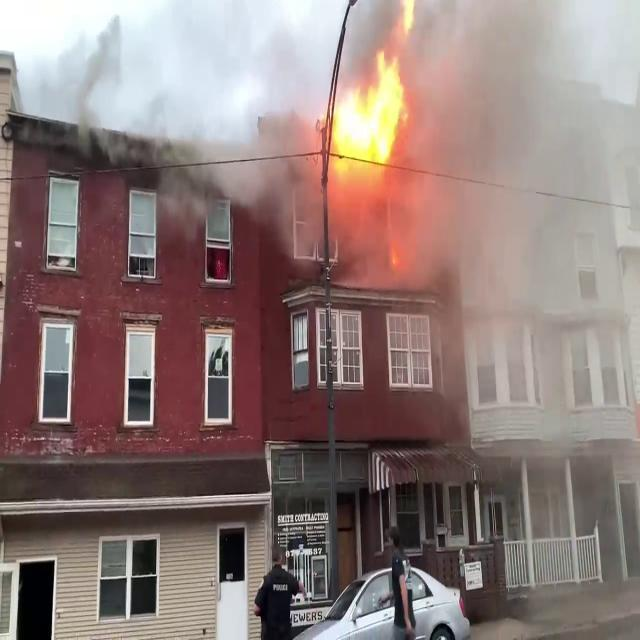Fire: (322, 29, 419, 180)
Smoke: (397, 0, 639, 458), (159, 44, 335, 254)
